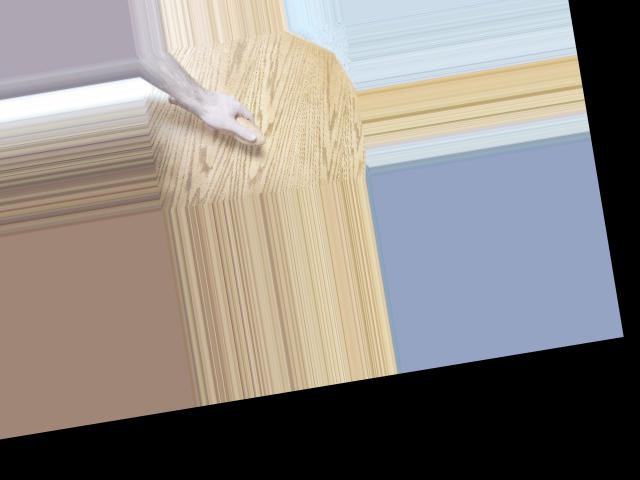sweet_potato: (162, 74, 267, 160)
